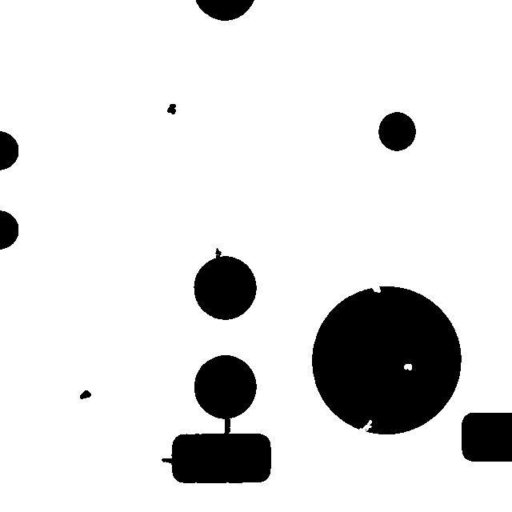copper: (74, 384, 97, 405), (161, 98, 182, 120)
mousebite: (352, 413, 378, 438), (366, 279, 386, 298)
pin-hole: (398, 358, 418, 376)
short: (217, 410, 236, 445)
spur: (208, 241, 228, 267), (154, 451, 180, 471)
